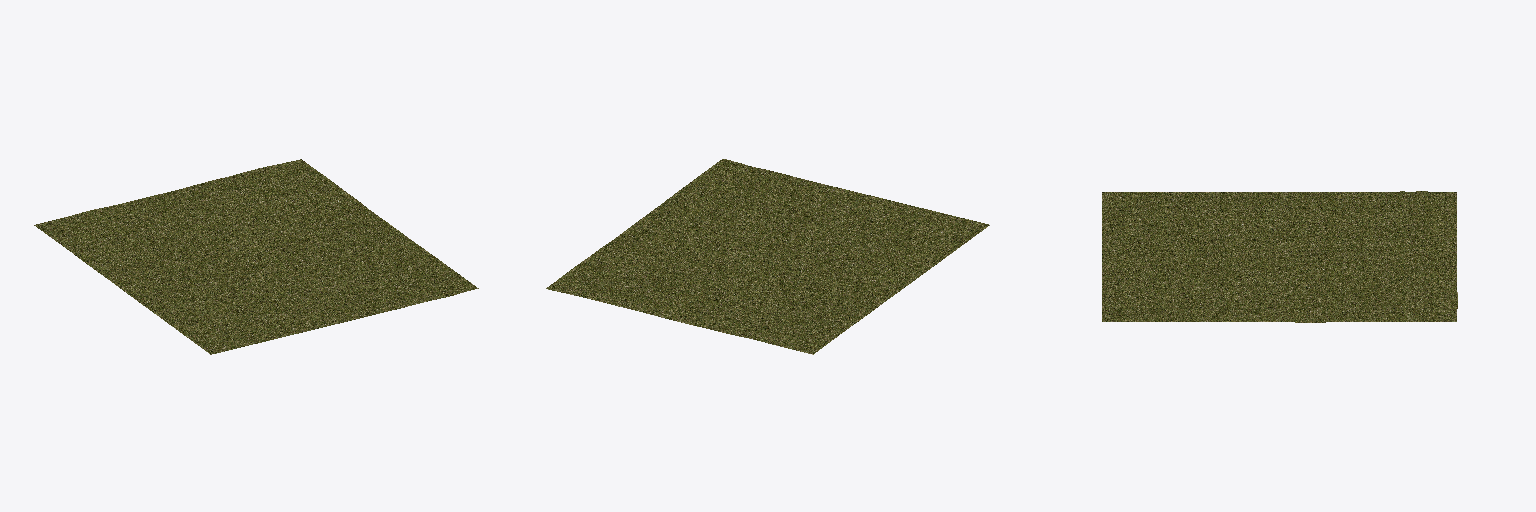
3 renders of one model, left to right at view 1: azimuth 30°, elevation 25°; view 2: azimuth 150°, elevation 25°; view 3: azimuth 270°, elevation 25°, orthographic.
Parts seen in each view (by area): view 1: veg_environment:pPlane16; view 2: veg_environment:pPlane16; view 3: veg_environment:pPlane16.
Part boxes in pixels (x1,y1,x2,y2): veg_environment:pPlane16: (34, 159, 478, 354); veg_environment:pPlane16: (546, 159, 989, 354); veg_environment:pPlane16: (1102, 191, 1457, 322).
Size of the model in its own units: 69.32 by 0.5973 by 79.61.
1 materials, 1 textured.